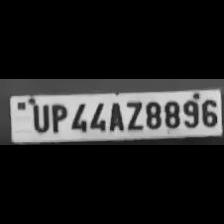4: (68, 100, 88, 134), (88, 100, 106, 132)
6: (200, 97, 218, 128)
8: (143, 98, 161, 130), (162, 98, 180, 130)
9: (181, 97, 199, 128)
A: (105, 99, 123, 131)
P: (47, 101, 67, 133)
U: (28, 101, 50, 133)
Z: (122, 98, 142, 132)
